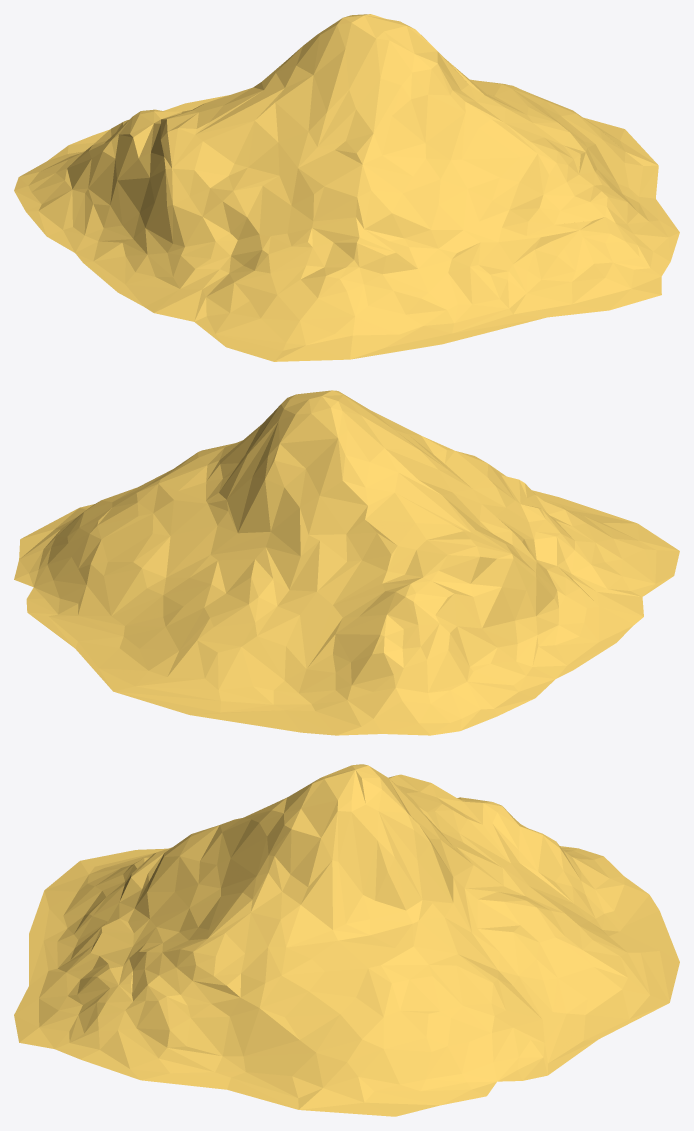
File: Terrain 01.FBX
3 renders of one model, top to bottom at view 1: azimuth 30°, elevation 25°; view 2: azimuth 150°, elevation 25°; view 3: azimuth 270°, elevation 25°, orthographic. The views are drawn at different scales.
Visible parts, largest first — view 1: plane; view 2: plane; view 3: plane.
Part boxes in pixels (bbox=[...]): plane: bbox=[14, 14, 679, 361]; plane: bbox=[14, 390, 679, 735]; plane: bbox=[14, 764, 679, 1116].
Size of the model in its own units: 96.01 by 32.8 by 96.71.
